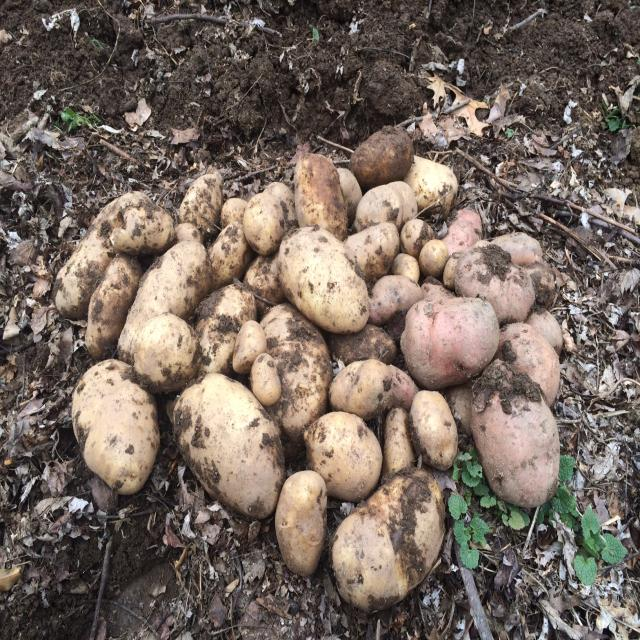potato: (70, 359, 157, 492), (277, 227, 376, 333), (303, 412, 384, 496), (270, 471, 329, 574), (294, 145, 352, 239), (412, 390, 459, 469), (178, 168, 225, 232), (250, 355, 285, 402)
